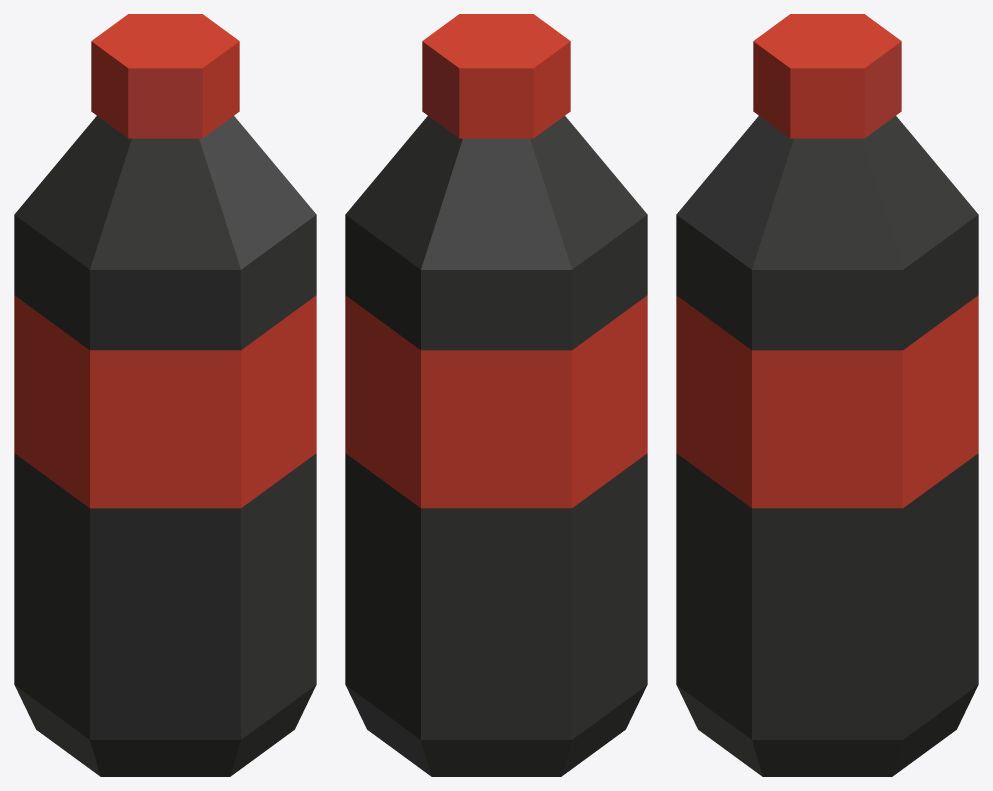
The model's file is cola_c.fbx.
3 views of the same model, side by side, from view 1: azimuth 30°, elevation 25°; view 2: azimuth 150°, elevation 25°; view 3: azimuth 270°, elevation 25° (orthographic).
Visible parts, largest first — view 1: Cube; view 2: Cube; view 3: Cube.
Part boxes in pixels (x1,y1,x2,y2): Cube: (14,14,316,776); Cube: (345,14,647,776); Cube: (676,14,978,776).
Bounding box in the file's own units: 0.3282 × 0.379 × 0.9525.
